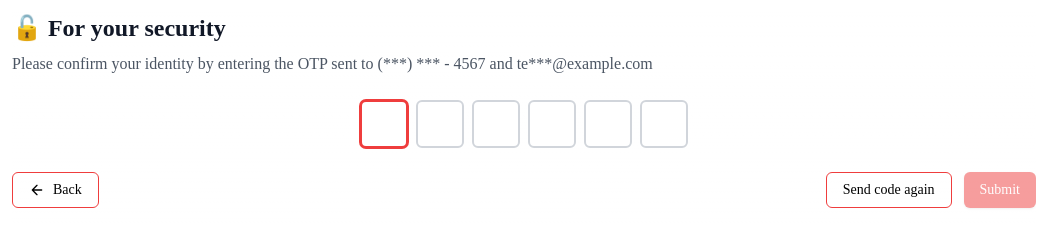
OTPStep › should enable submit button when OTP is complete
Type "1" into the 1st field.
click(384, 124); type("1")  # box left=360, top=100, right=408, bottom=148
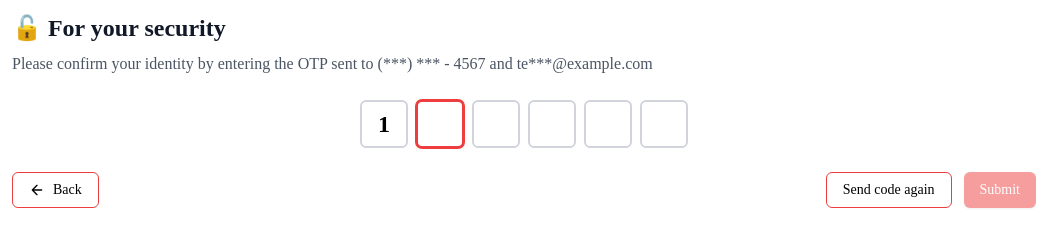
Type "2" into the 2nd field.
click(440, 124); type("2")  # box left=416, top=100, right=464, bottom=148
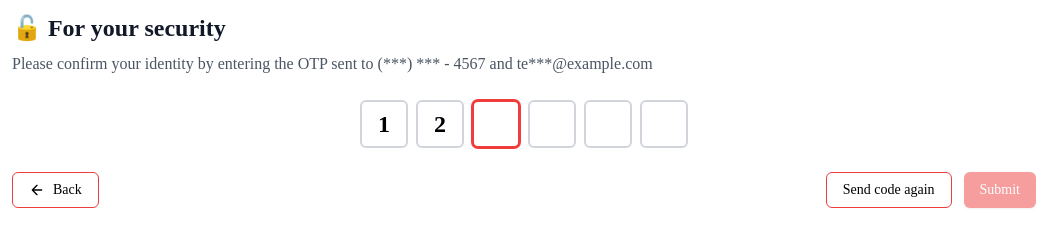
Type "3" into the 3rd field.
click(496, 124); type("3")  # box left=472, top=100, right=520, bottom=148
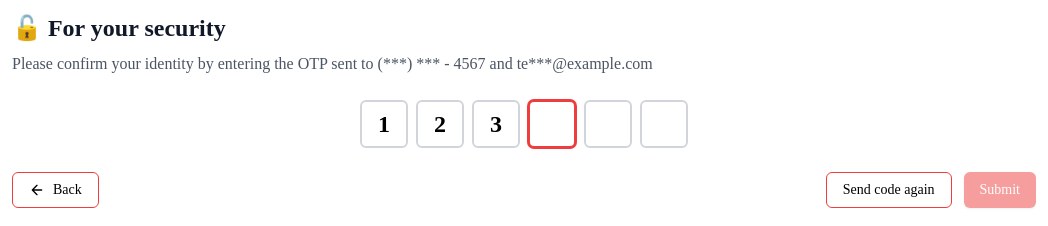
Type "4" into the 4th field.
click(552, 124); type("4")  # box left=528, top=100, right=576, bottom=148
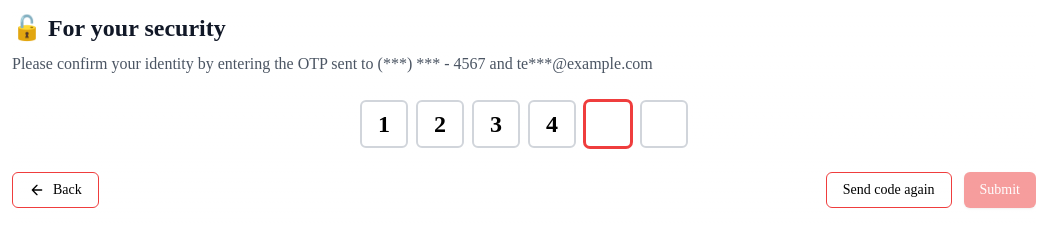
Type "5" into the 5th field.
click(608, 124); type("5")  # box left=584, top=100, right=632, bottom=148
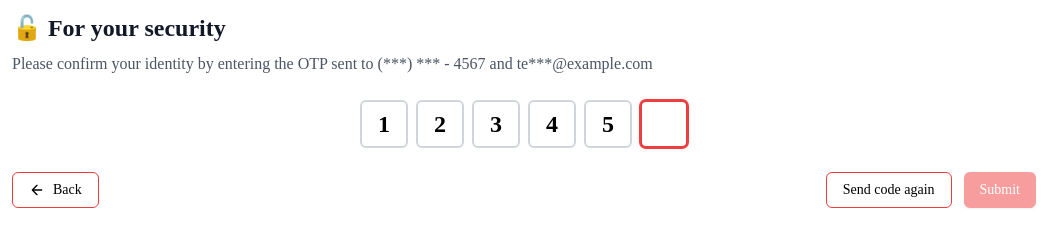
Type "6" into the 6th field.
click(664, 124); type("6")  # box left=640, top=100, right=688, bottom=148
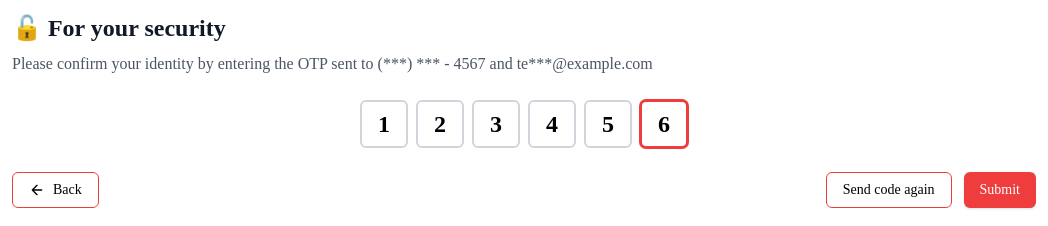
Now the button "Submit" is enabled, box left=964, top=172, right=1036, bottom=208
